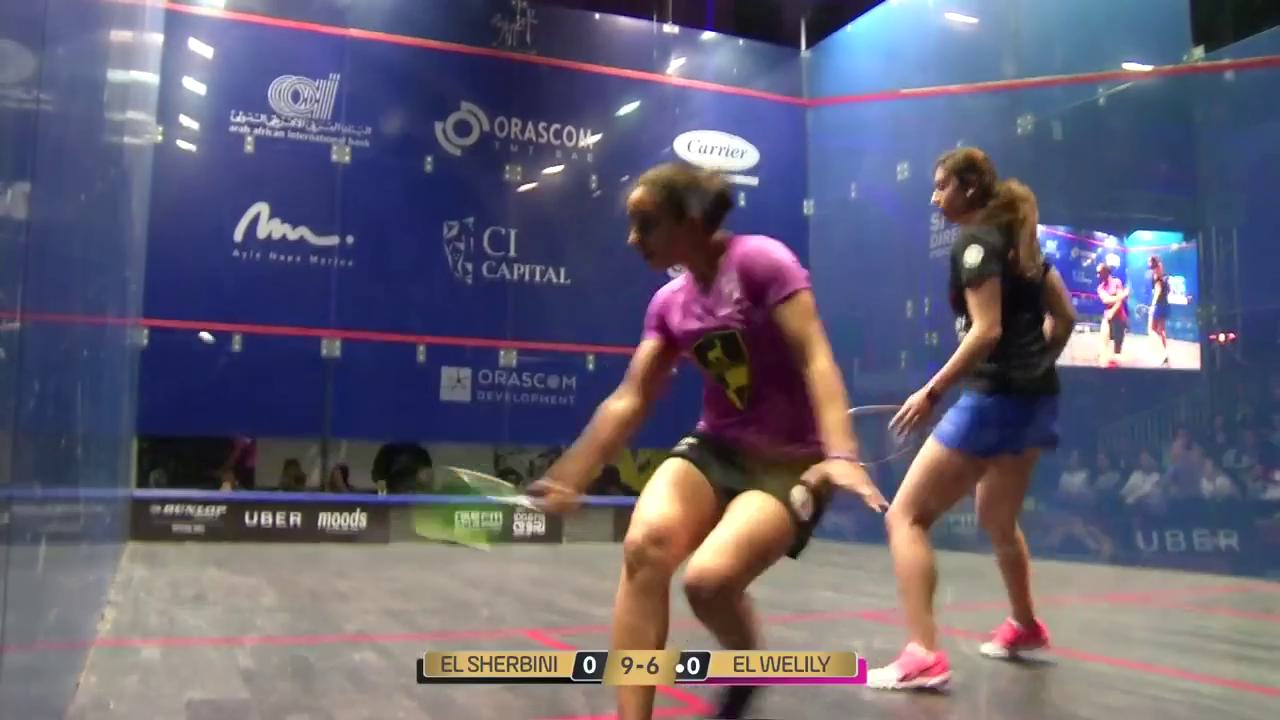normal: (560, 155, 888, 720), (881, 143, 1078, 692)
